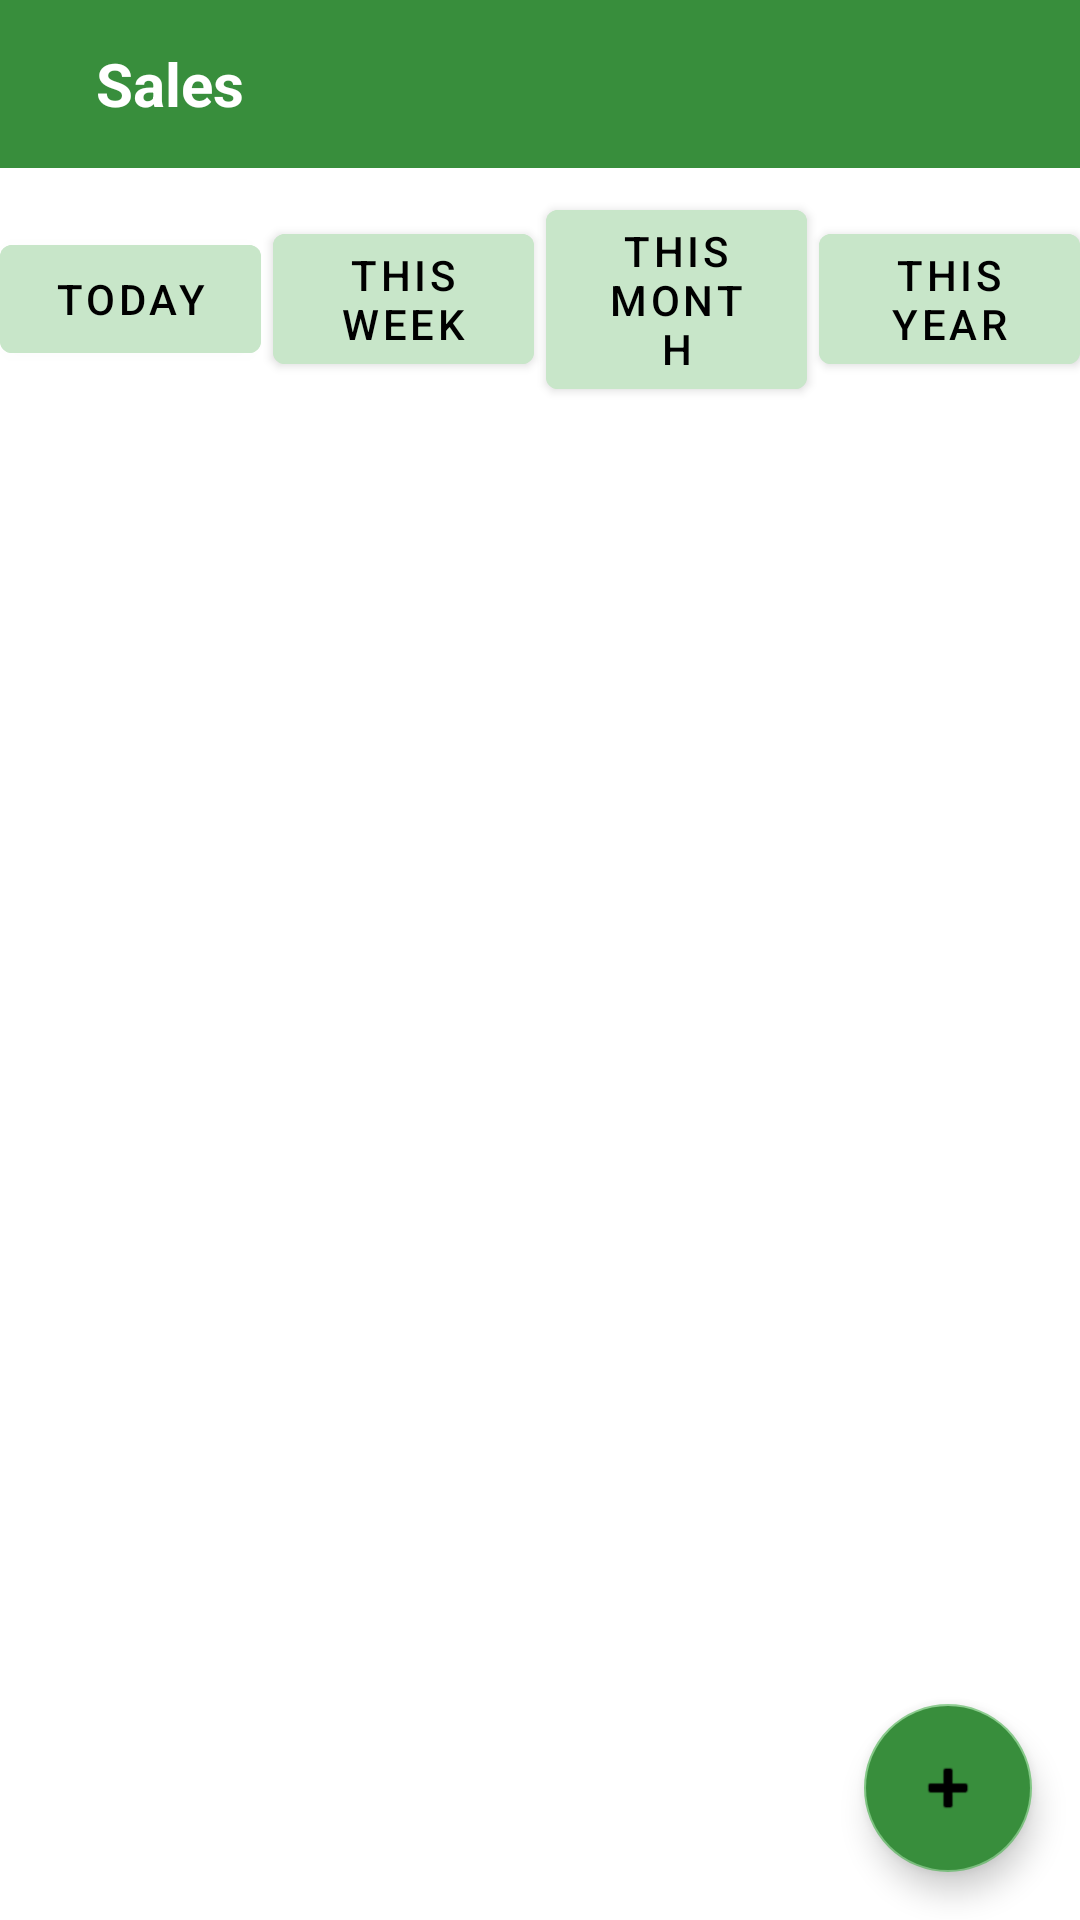

Locate icon controls on the screen. Image size 1080x1920, boxes as BBox(x1, y1, x2, y2).
Add Sale: BBox(864, 1704, 1032, 1872)
